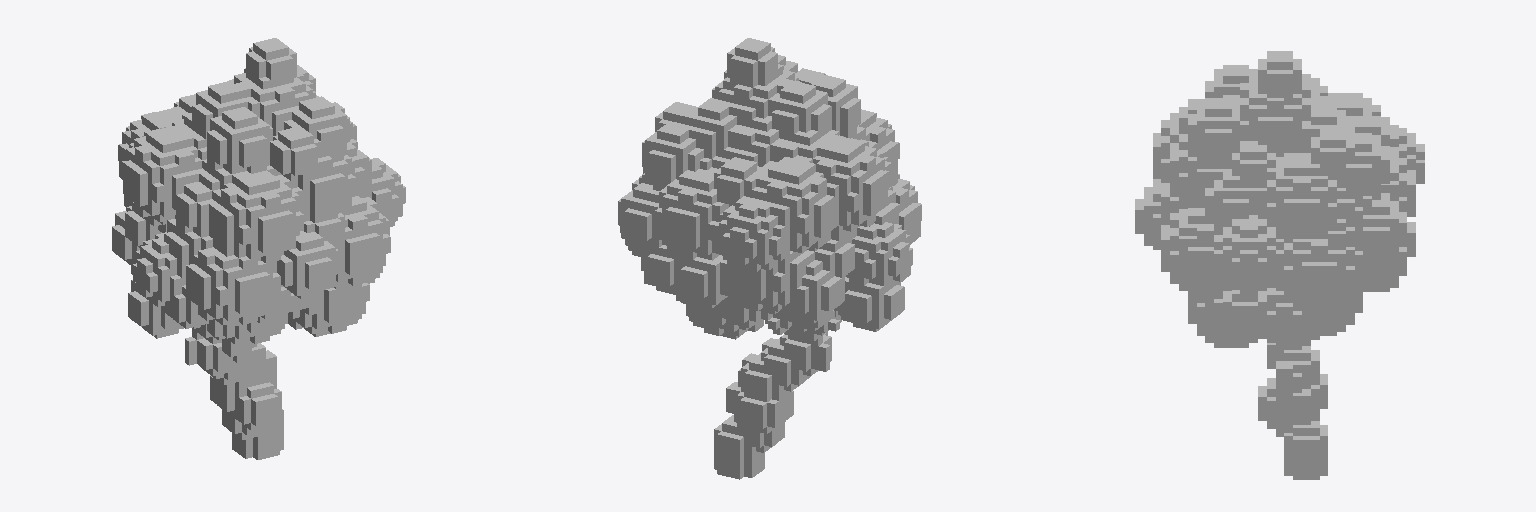
The model's file is Blue_Cotton_candy_tree.obj.
3 views of the same model, side by side, from view 1: azimuth 30°, elevation 25°; view 2: azimuth 150°, elevation 25°; view 3: azimuth 270°, elevation 25° (orthographic).
Bounding box in the file's own units: 33 × 52 × 33.